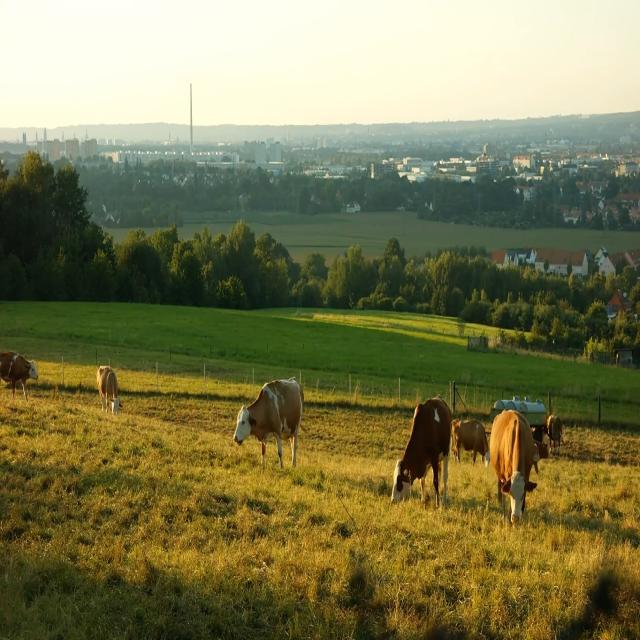cow: (209, 361, 318, 479), (381, 392, 472, 517), (491, 401, 538, 532), (90, 359, 137, 424), (0, 350, 44, 406)
